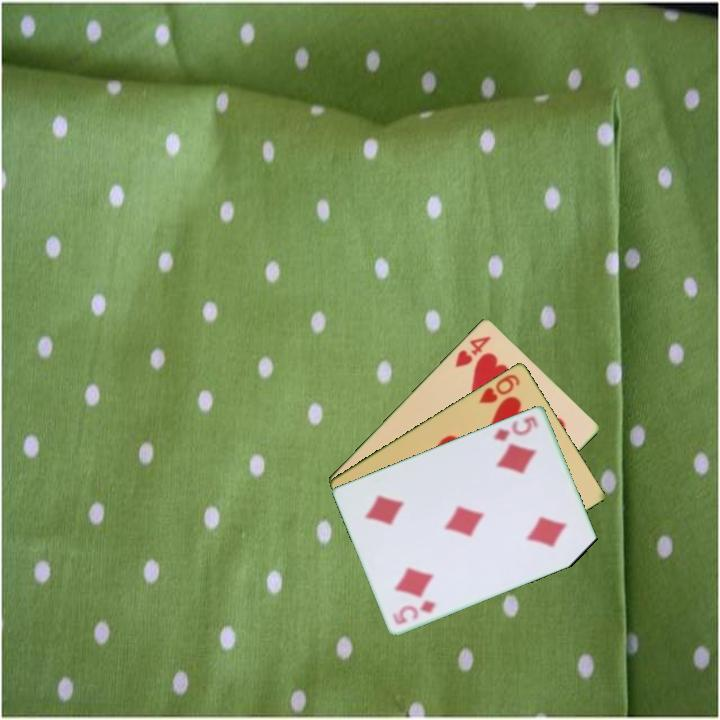4h: (452, 332, 494, 370)
5d: (490, 412, 541, 444), (389, 596, 439, 627)
6h: (475, 370, 523, 406)
